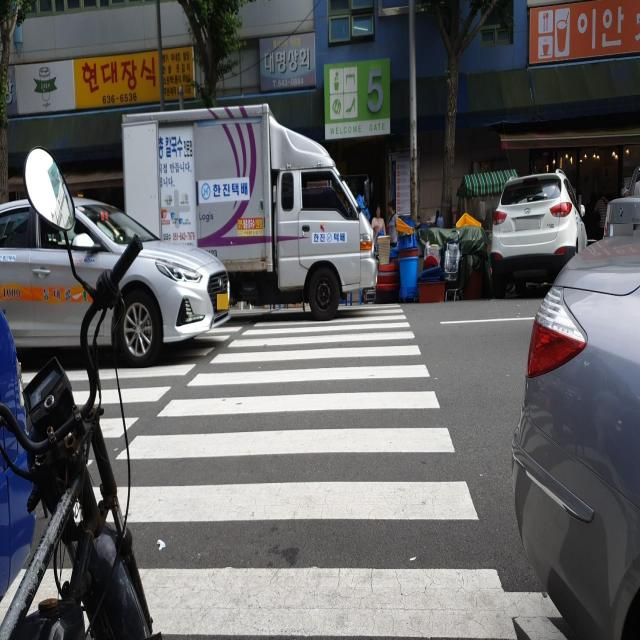횡단보도: (0, 300, 518, 639)
